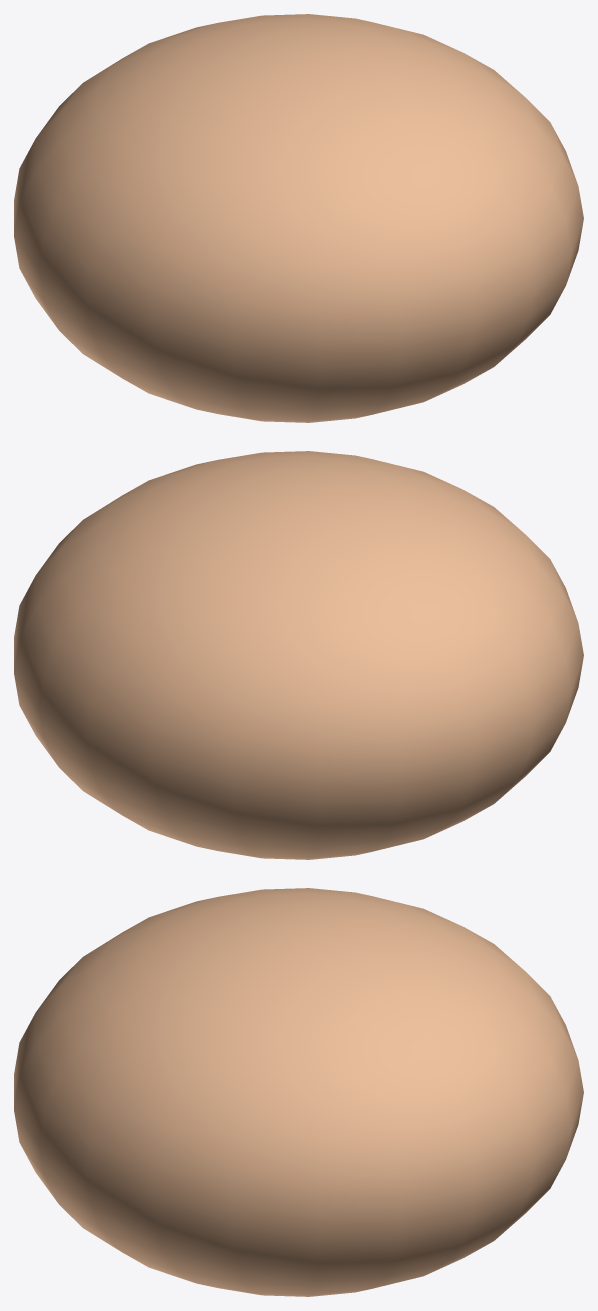
Rendered from masa_pizza.glb.
3 views of the same model, one above another, from view 1: azimuth 30°, elevation 25°; view 2: azimuth 150°, elevation 25°; view 3: azimuth 270°, elevation 25° (orthographic).
Parts seen in each view (by area): view 1: Sphere; view 2: Sphere; view 3: Sphere.
Boxes of the visible parts, bbox=[...] form: Sphere: bbox=[14, 14, 583, 422]; Sphere: bbox=[14, 451, 583, 859]; Sphere: bbox=[14, 888, 583, 1296].
Bounding box in the file's own units: 3.43 × 2.19 × 3.42.
